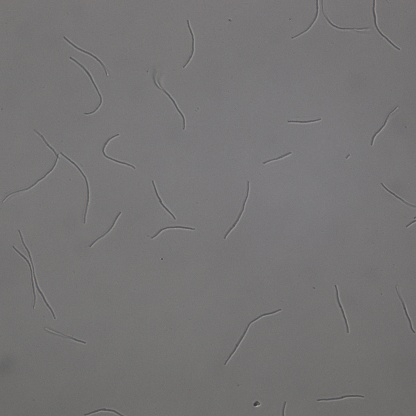Sensitive: (2, 128, 58, 201), (12, 230, 56, 318), (226, 307, 281, 363), (62, 152, 90, 222), (72, 58, 103, 115), (223, 181, 251, 238), (65, 37, 108, 74), (154, 79, 186, 128), (322, 1, 369, 31), (372, 1, 400, 49), (101, 134, 135, 168), (292, 1, 320, 38), (371, 106, 397, 145), (90, 212, 120, 245), (395, 287, 416, 333), (381, 183, 416, 208), (152, 181, 174, 217), (334, 285, 351, 331), (44, 328, 86, 344), (183, 20, 196, 68), (318, 391, 365, 403), (152, 225, 194, 237), (81, 408, 125, 416), (265, 152, 293, 163), (288, 117, 320, 124)
